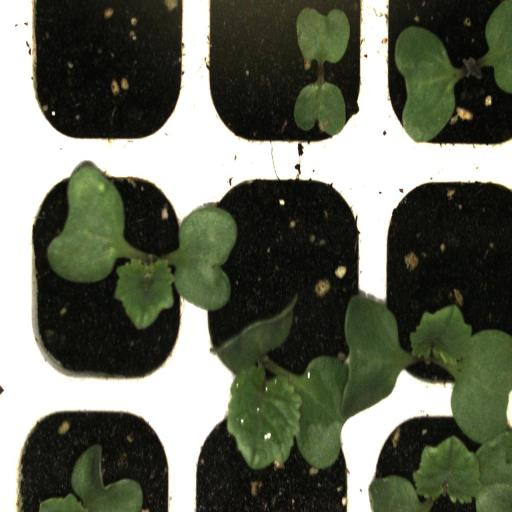Folha: (214, 295, 512, 512), (39, 445, 143, 512), (272, 0, 351, 64), (480, 0, 512, 94), (294, 81, 346, 136)
Germinacao: (196, 157, 377, 414), (13, 152, 204, 395), (371, 167, 512, 404), (196, 0, 373, 148), (375, 0, 512, 156)
